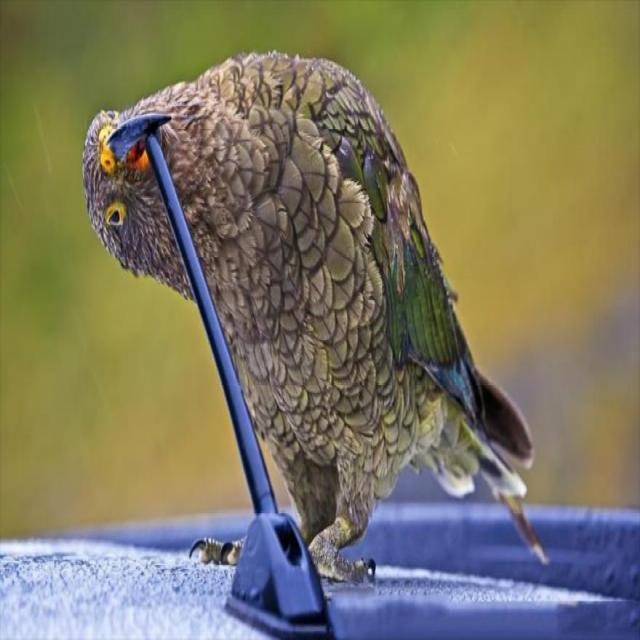bird: (66, 23, 567, 610)
